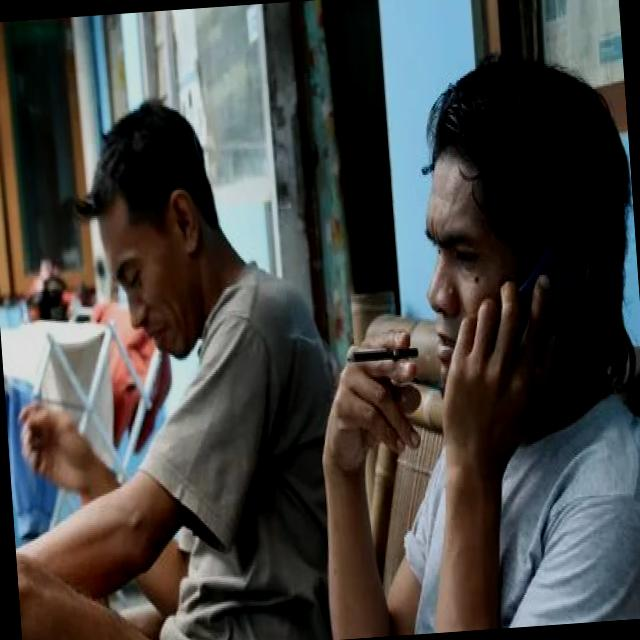cigarette: (343, 341, 423, 368)
